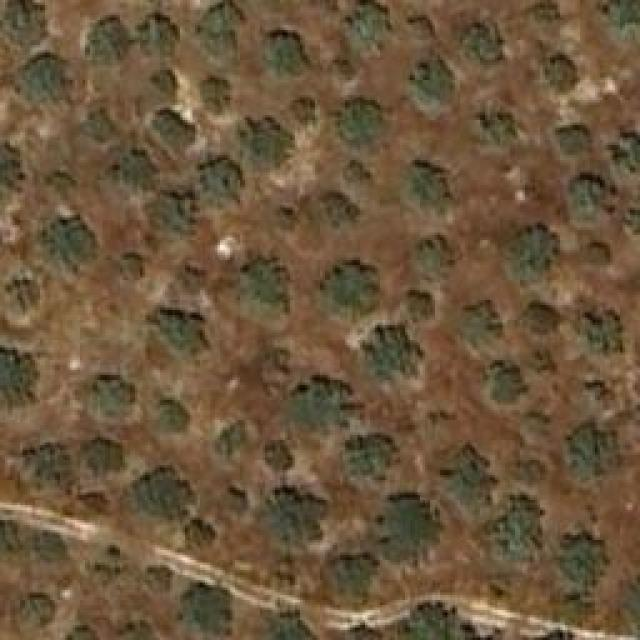Tree: (380, 495, 445, 560), (485, 505, 548, 563), (323, 263, 376, 328), (285, 380, 345, 435), (435, 450, 490, 508), (343, 432, 396, 490), (230, 263, 288, 316), (35, 223, 95, 273), (565, 428, 615, 488), (260, 493, 315, 546), (555, 535, 608, 590), (15, 53, 70, 106), (190, 5, 243, 60), (83, 373, 136, 426), (500, 225, 550, 278), (183, 583, 233, 633), (358, 328, 408, 378), (140, 475, 190, 523), (145, 195, 193, 245), (408, 600, 471, 638), (347, 0, 395, 48), (335, 100, 380, 150), (0, 347, 38, 405), (243, 117, 288, 165), (150, 310, 200, 353), (577, 313, 625, 356), (3, 0, 48, 45), (30, 445, 75, 488), (460, 305, 503, 350), (460, 25, 503, 70), (403, 163, 446, 208), (135, 15, 178, 60), (410, 58, 453, 101), (155, 110, 198, 153), (115, 148, 158, 191), (90, 20, 128, 68), (200, 158, 240, 201), (568, 178, 608, 221), (210, 415, 248, 458), (250, 612, 308, 640), (323, 558, 368, 593), (480, 117, 520, 155), (317, 190, 355, 230), (77, 105, 115, 145), (140, 560, 176, 601), (487, 365, 525, 403), (83, 440, 118, 478), (555, 123, 593, 158), (183, 515, 216, 555), (265, 35, 300, 70), (538, 60, 573, 95), (20, 590, 55, 625), (605, 0, 640, 35), (525, 0, 565, 30), (418, 233, 451, 268), (0, 280, 35, 313), (45, 168, 80, 201), (32, 528, 64, 563), (398, 288, 431, 321), (223, 483, 256, 516), (0, 148, 18, 208), (265, 440, 295, 475), (585, 240, 616, 273), (523, 305, 556, 335), (615, 132, 640, 170), (202, 75, 230, 108), (117, 253, 145, 286), (403, 10, 433, 40), (157, 400, 185, 428), (290, 98, 315, 128), (118, 620, 153, 640), (65, 622, 103, 640), (622, 208, 640, 243), (343, 163, 366, 183)
